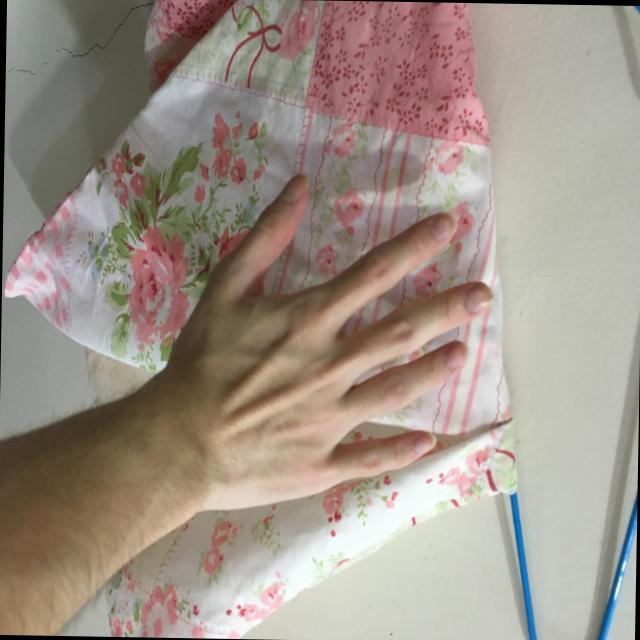Nail: (462, 282, 492, 314), (276, 173, 306, 205), (443, 340, 468, 367), (431, 212, 454, 239), (412, 432, 435, 454)
